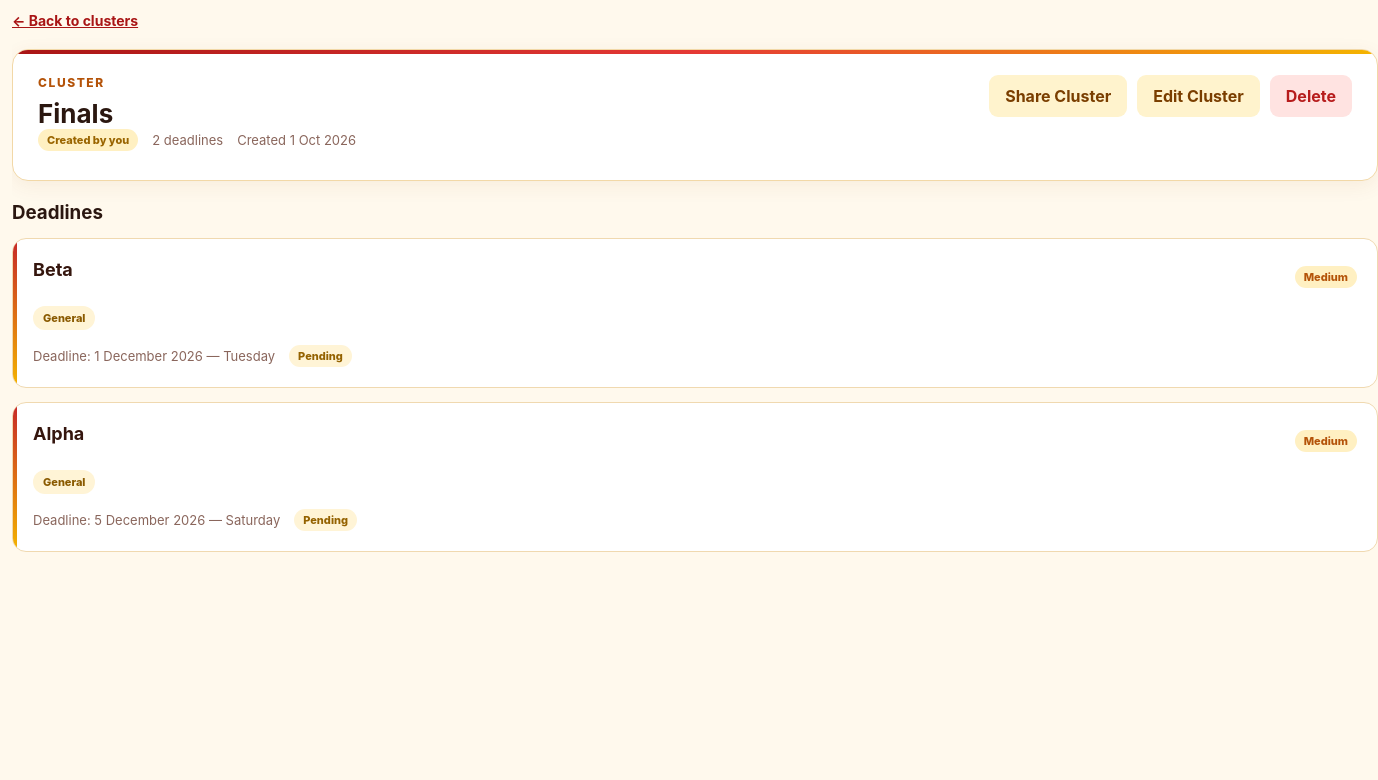
Test: Cluster details: editing › renames the cluster and changes membership with one PUT, then shows the result
Click the button "Edit Cluster" at (1198, 96), box [1137,75,1260,117]
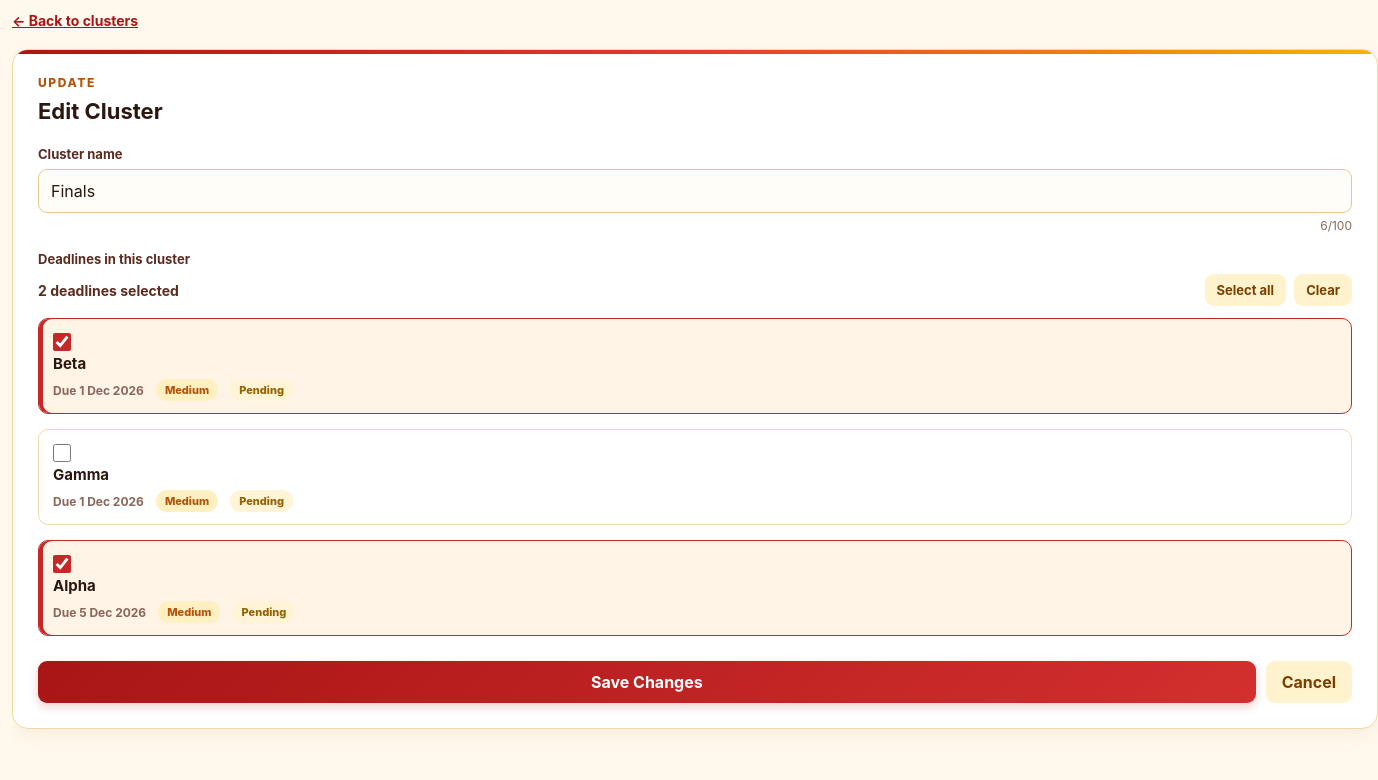
Expected: the checkbox named "Select Alpha" is checked, [53,555,71,573]
Expected: the checkbox named "Select Beta" is checked, [53,333,71,351]
Expected: the checkbox named "Select Gamma" is not checked, [53,444,71,462]
Replace the text in the field labelled "Cluster name" with "  Renamed  " at (695, 191), box [38,169,1352,213]
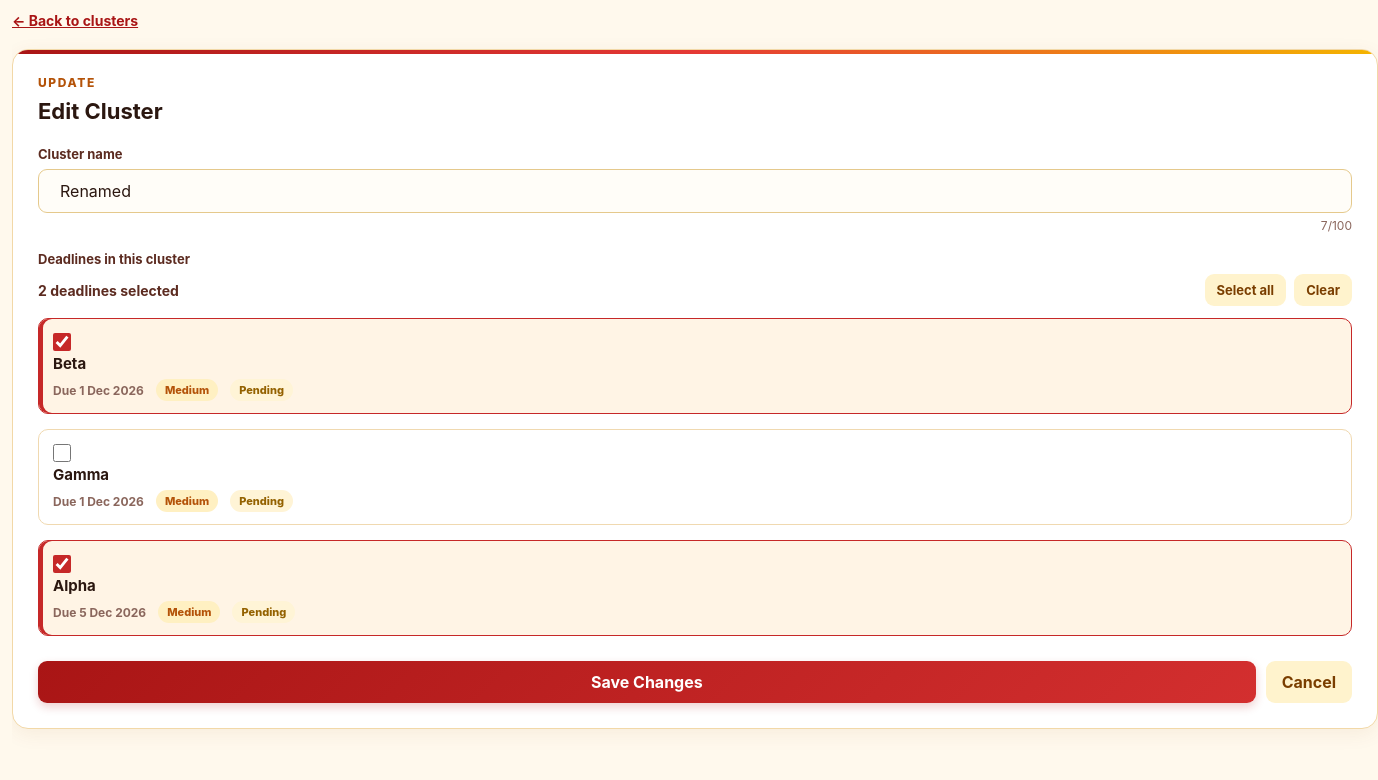
Click the checkbox named "Select Alpha" at (62, 564), box [53,555,71,573]
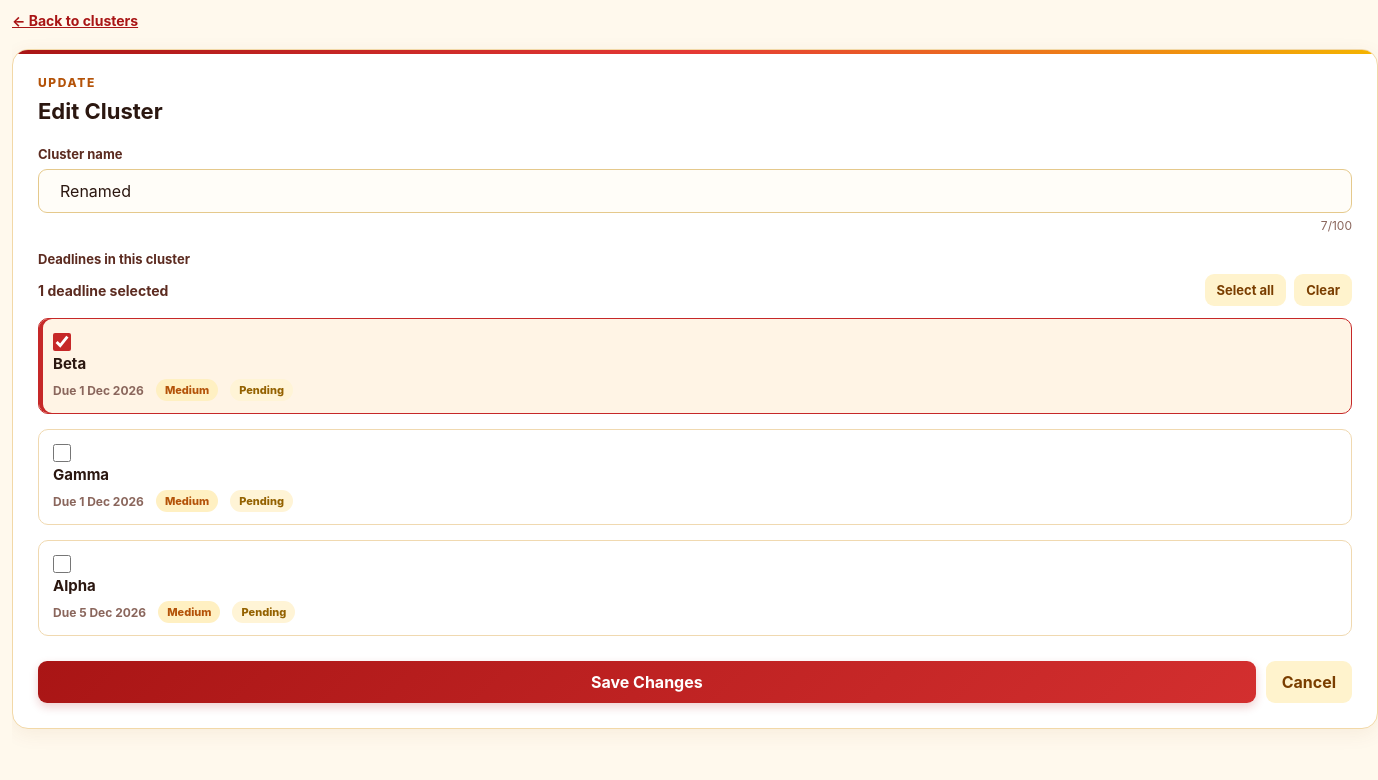
Click the checkbox named "Select Gamma" at (62, 453), box [53,444,71,462]
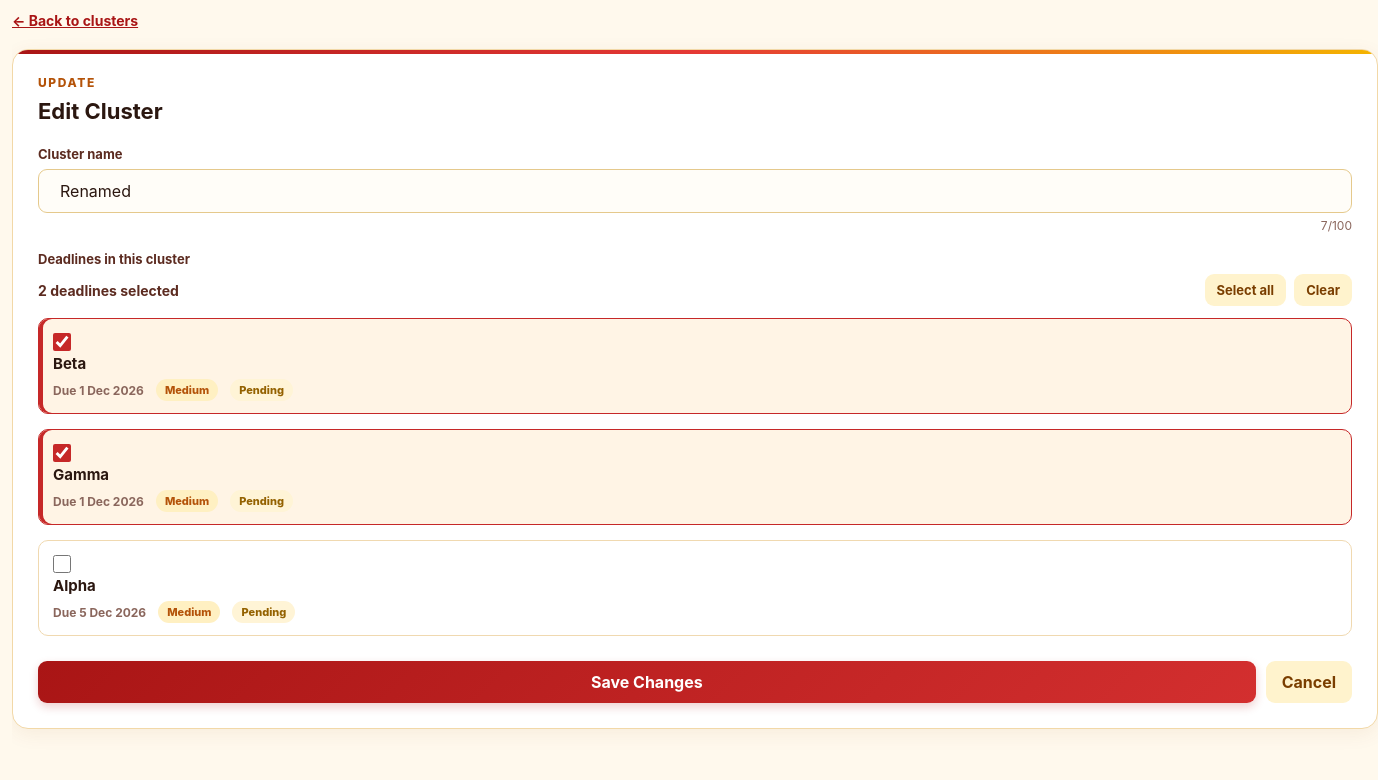
Click the button "Save Changes" at (647, 682), box [38,661,1256,703]
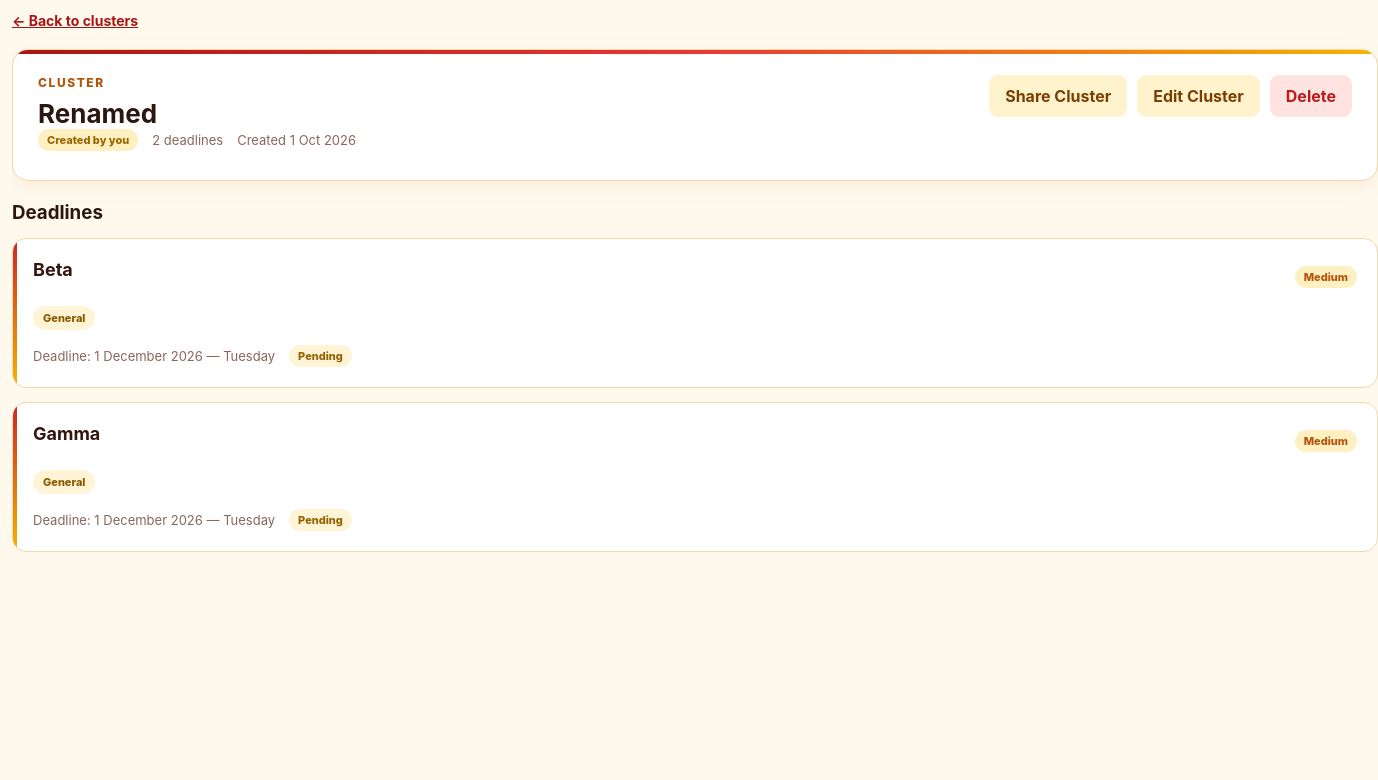
Expected: the heading "Renamed" is shown, [38,98,157,129]
Expected: the button "Save Changes" is gone
